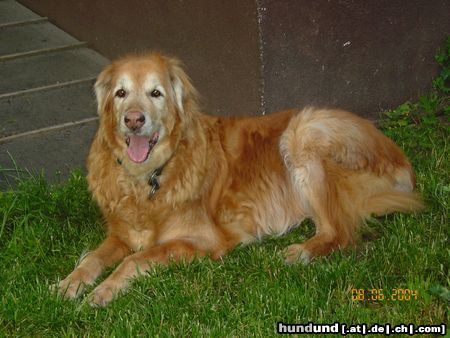kangal: (47, 52, 429, 307)
